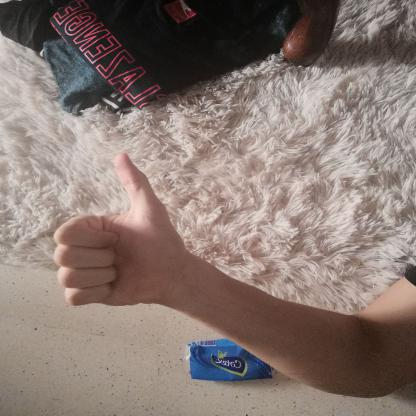ALIF: (42, 141, 193, 316)
